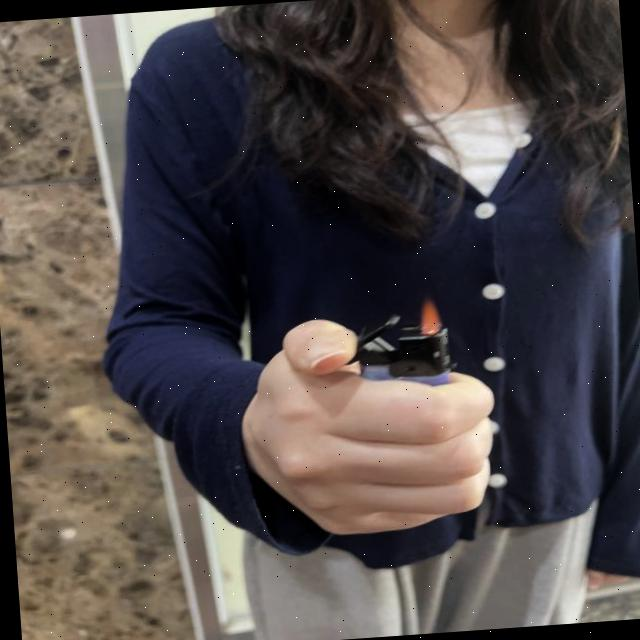fire: (414, 294, 446, 338)
